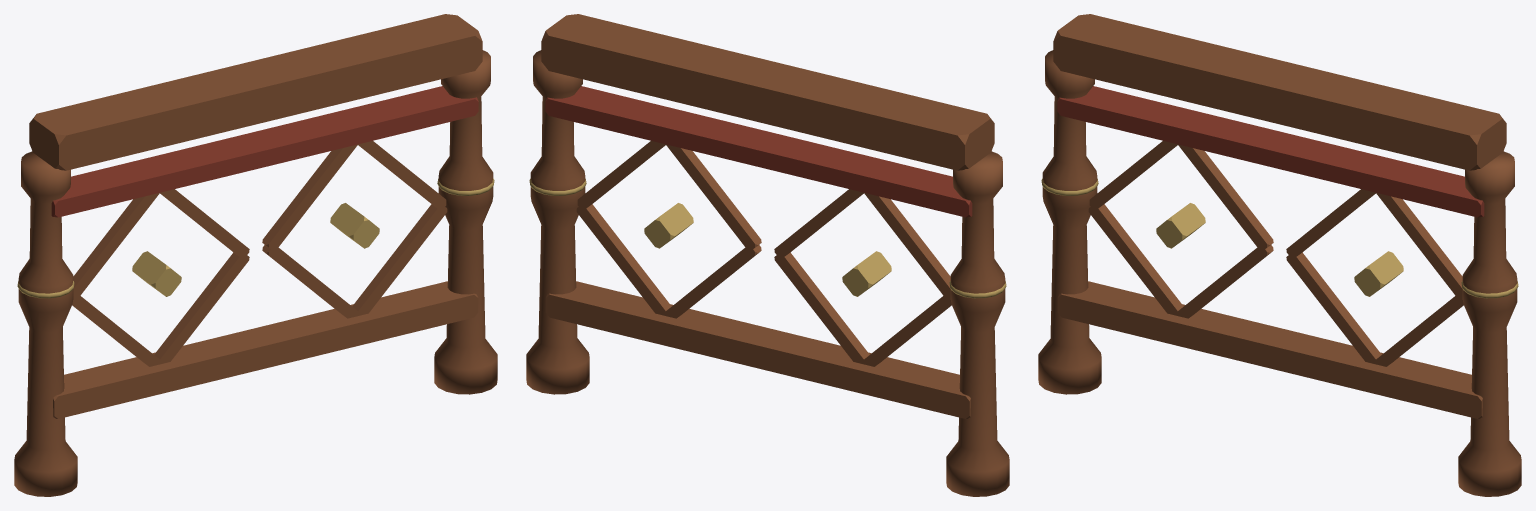
Rendered from rail_panel.glb.
3 views of the same model, side by side, from view 1: azimuth 30°, elevation 25°; view 2: azimuth 150°, elevation 25°; view 3: azimuth 330°, elevation 25° (orthographic).
Parts seen in each view (by area): view 1: rail_panel; view 2: rail_panel; view 3: rail_panel.
Part boxes in pixels (x1,y1,x2,y2): rail_panel: (14, 14, 497, 496); rail_panel: (526, 14, 1009, 496); rail_panel: (1038, 14, 1521, 496).
Size of the model in its own units: 1.2 by 0.8625 by 0.14.
